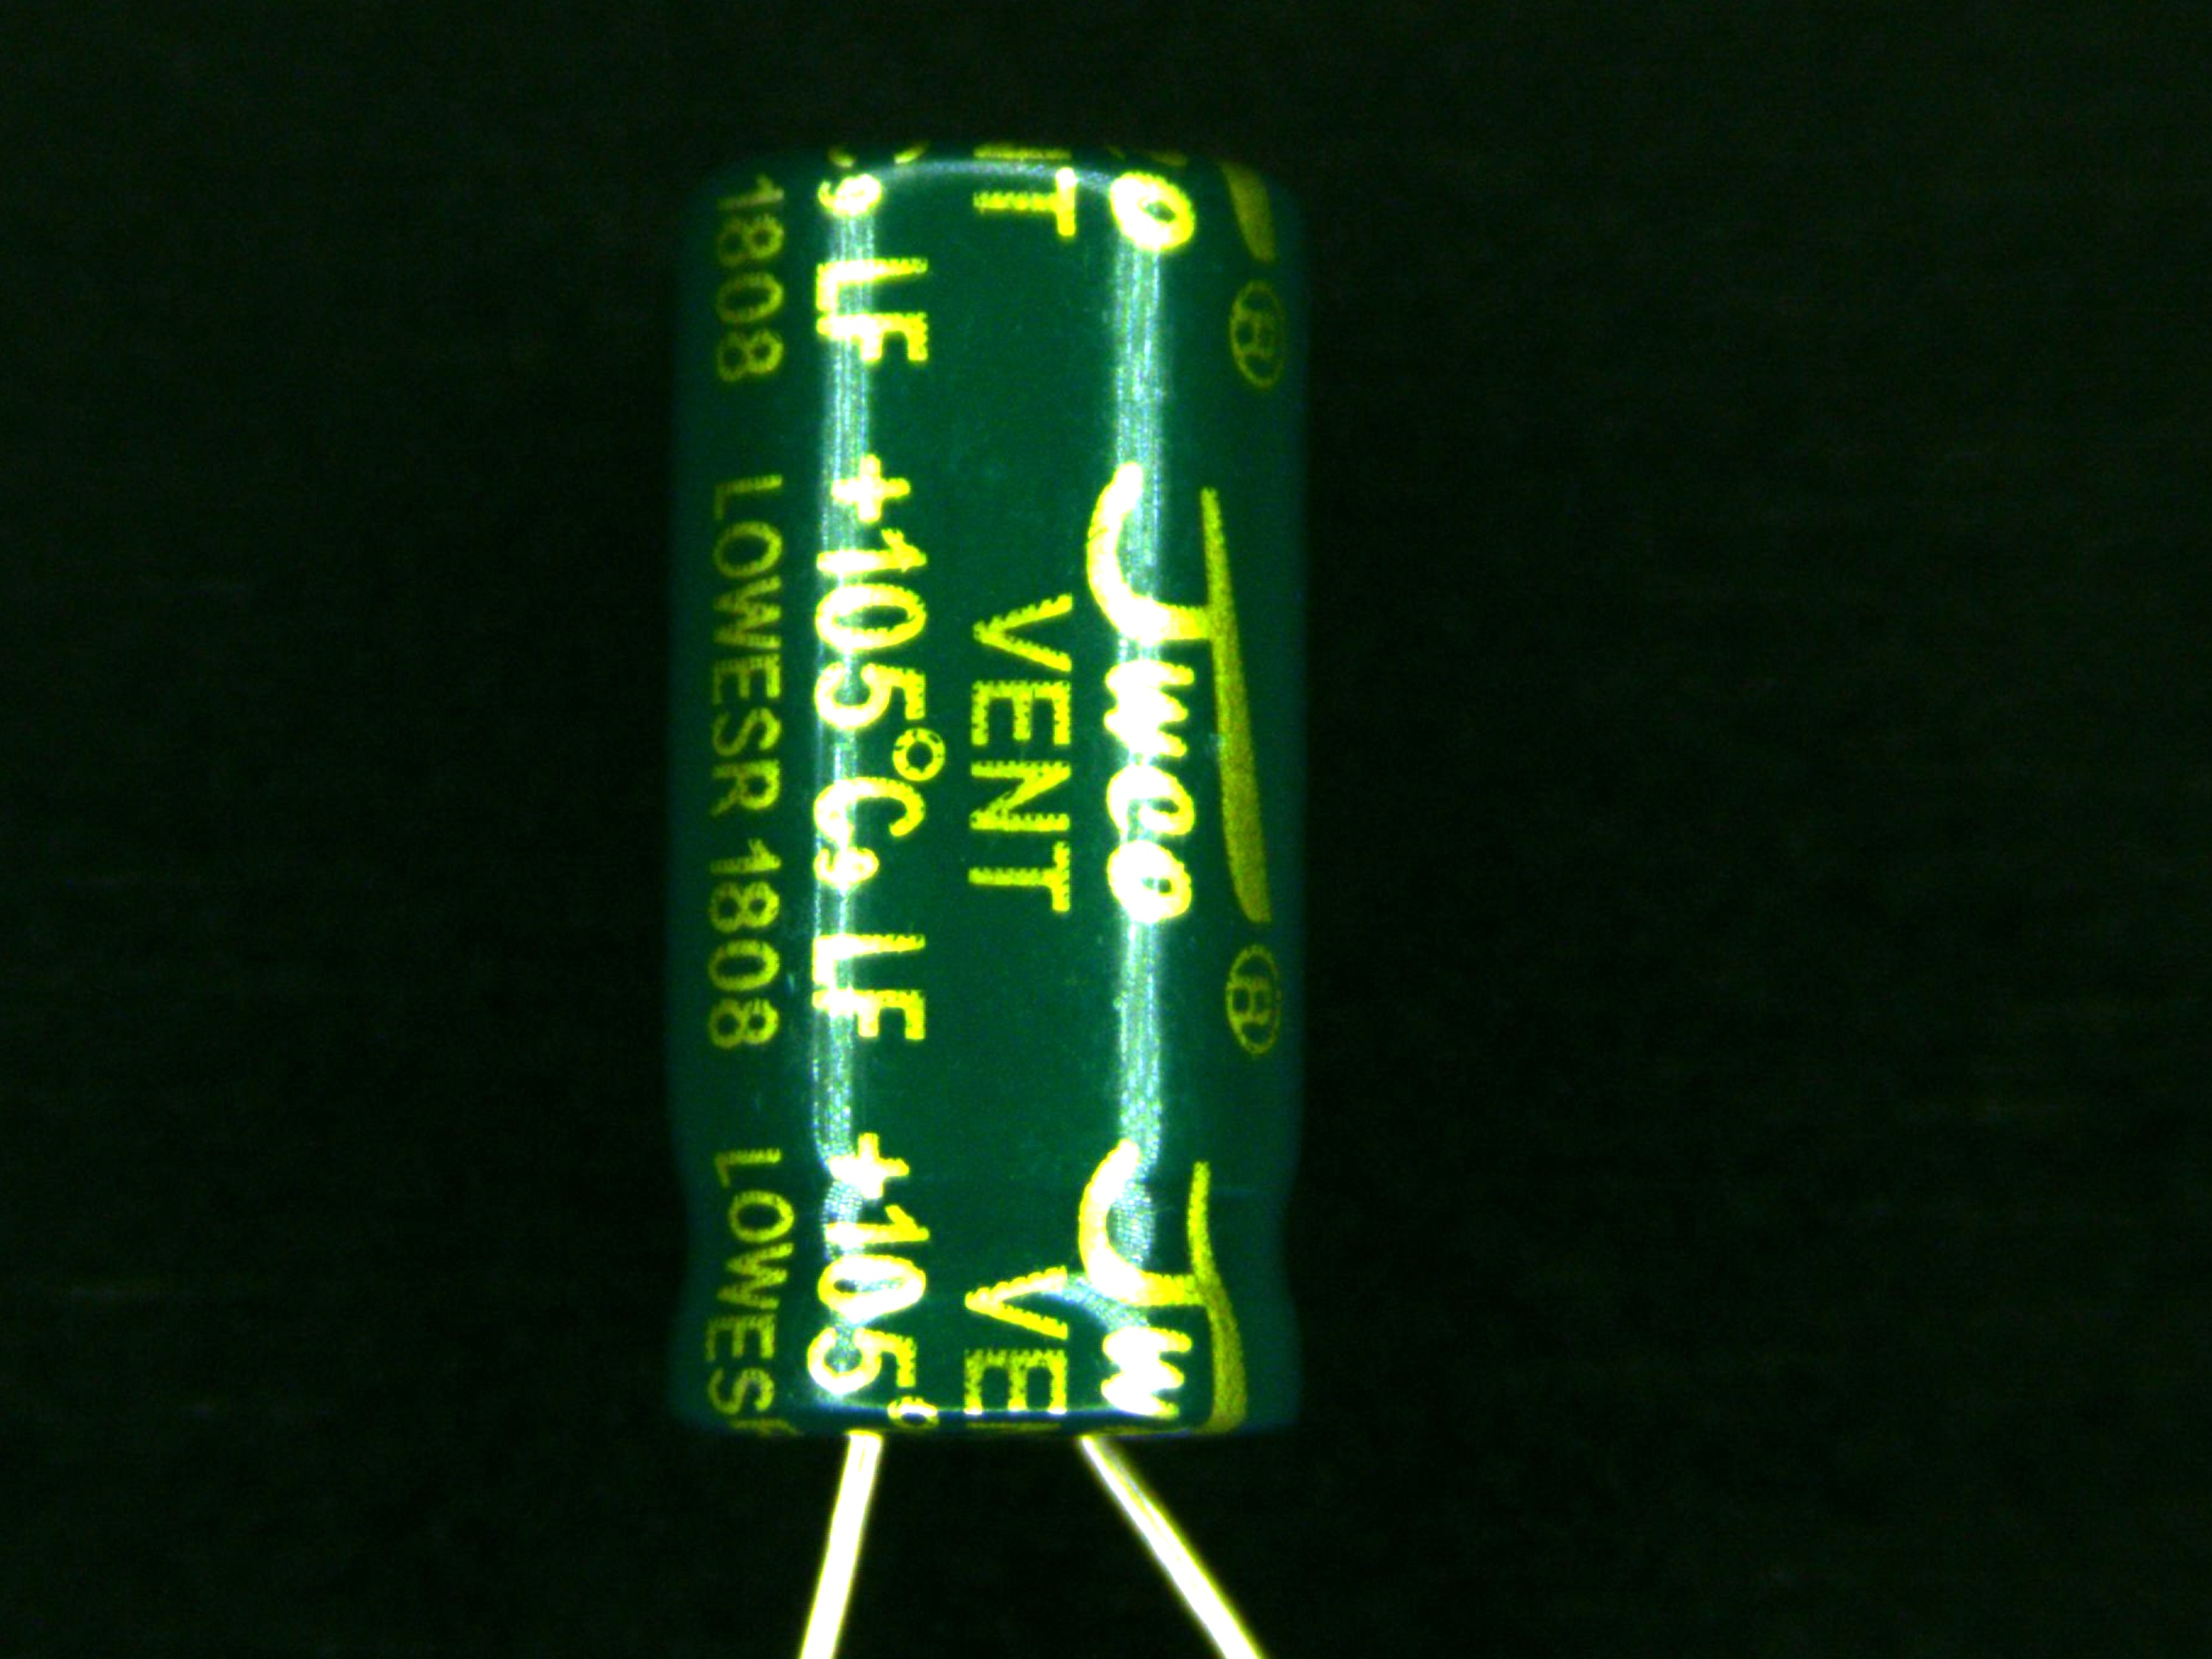c1: (662, 136, 1318, 1659)
